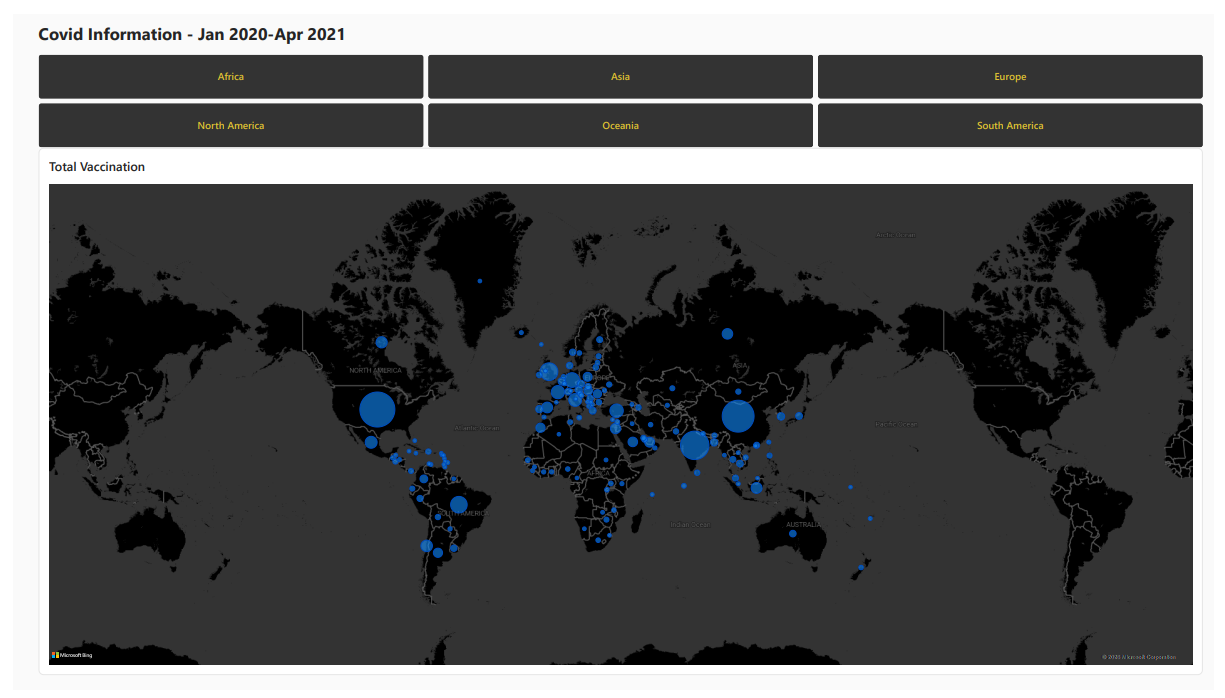

Layout of this report page (visuals, bound fields, positions):
{"tool":"powerbi","page":{"name":"Map","canvas":[1920,1080],"ordinal":1},"visuals":[{"type":"map","title":"Total Vaccination","fields":{"Category":["public percentpopulationvaccinated.location"],"Size":["public percentpopulationvaccinated.total_vaccinated"]},"box":[40.6,213.6,1861.9,842.4],"z":0},{"type":"advancedSlicerVisual","fields":{"Values":["public percentpopulationvaccinated.continent"]},"box":[40.6,64.9,1861.9,148.7],"z":1000},{"type":"textbox","box":[40.6,12.2,678.8,39.2],"z":1001}]}

Visuals, with their boxes in screenshot pixels (x1, y1, x2, y2), scaled from the page's 1920x1080 canvas onto the 1225x698 screenshot:
"Total Vaccination" map: 26, 138, 1214, 682
advancedSlicerVisual - public percentpopulationvaccinated.continent: 26, 42, 1214, 138
textbox: 26, 8, 459, 33
